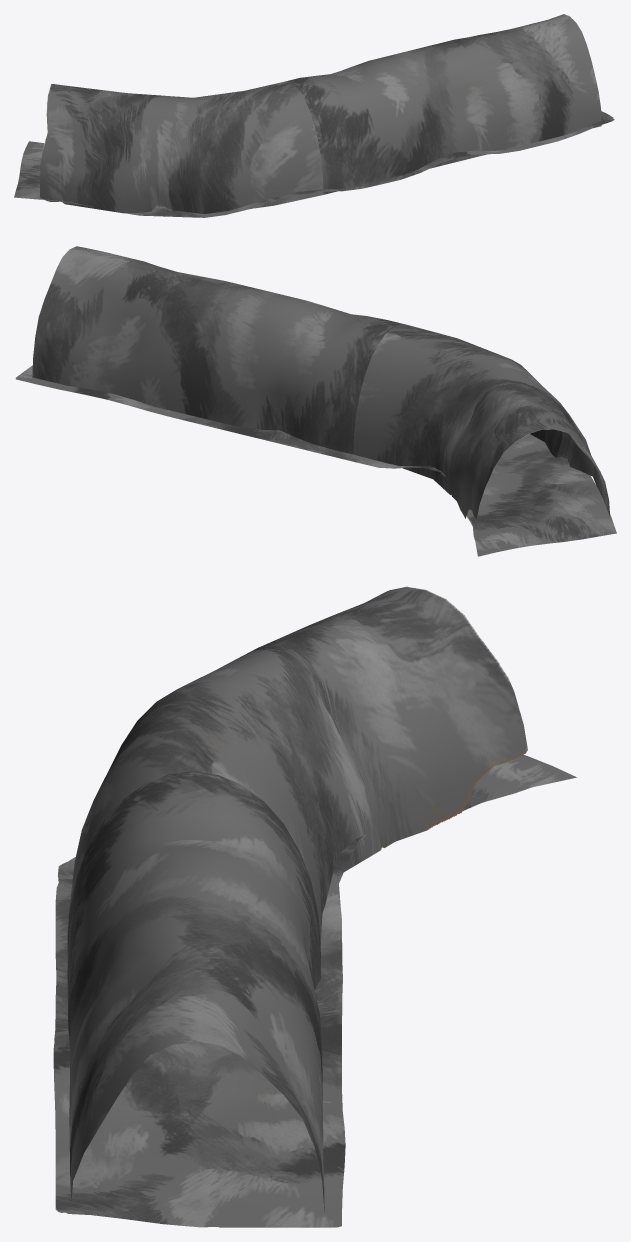
The model's file is modee tunnel.fbx.
3 views of the same model, one above another, from view 1: azimuth 30°, elevation 25°; view 2: azimuth 150°, elevation 25°; view 3: azimuth 270°, elevation 25° (orthographic). The views are drawn at different scales.
Parts seen in each view (by area): view 1: Cylinder, Plane; view 2: Cylinder, Plane; view 3: Cylinder, Plane.
Part boxes in pixels (x1,y1,x2,y2): Cylinder: [40, 14, 601, 213]; Plane: [14, 111, 614, 217]; Cylinder: [32, 246, 609, 518]; Plane: [15, 365, 616, 556]; Cylinder: [67, 586, 527, 1212]; Plane: [53, 755, 576, 1227].
Bounding box in the file's own units: 3299 × 533 × 1427.
